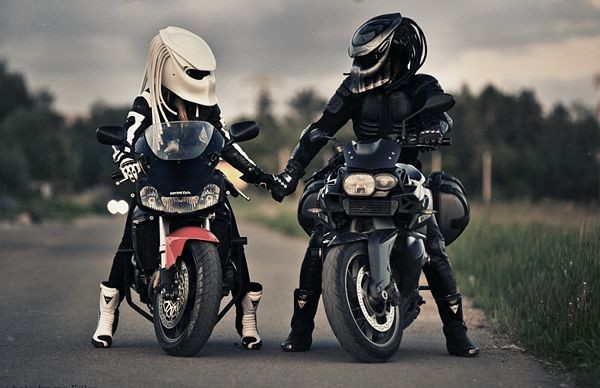with_helmet: (340, 9, 435, 101), (144, 24, 229, 110)
